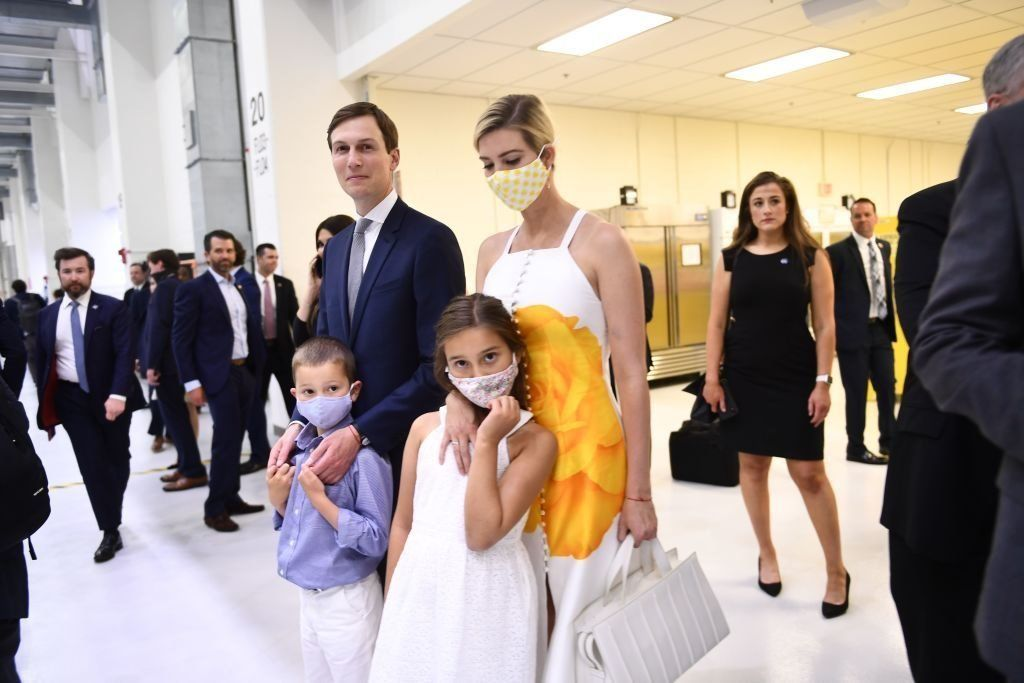with_mask: (450, 333, 517, 407), (474, 137, 539, 195), (330, 128, 386, 194), (301, 372, 343, 416), (755, 184, 783, 231), (57, 258, 88, 291), (212, 240, 235, 271)
without_mask: (854, 203, 878, 236)
